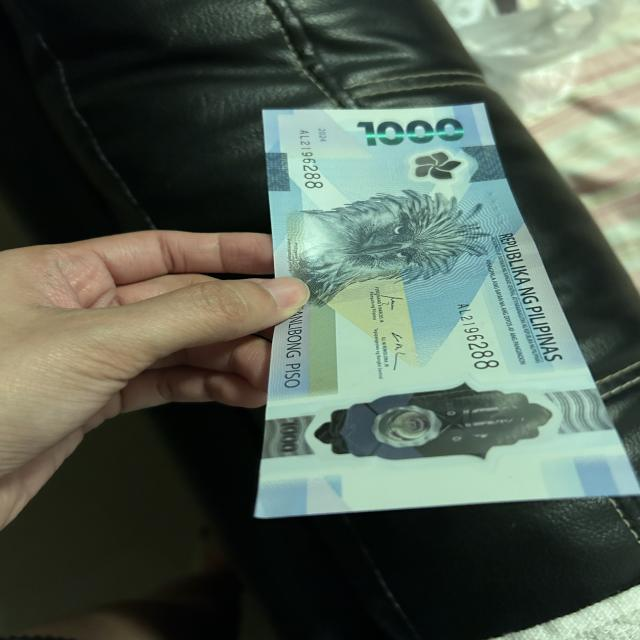clear_window: (289, 388, 600, 472)
eagle: (282, 197, 486, 285)
sampaguita: (410, 150, 460, 180)
